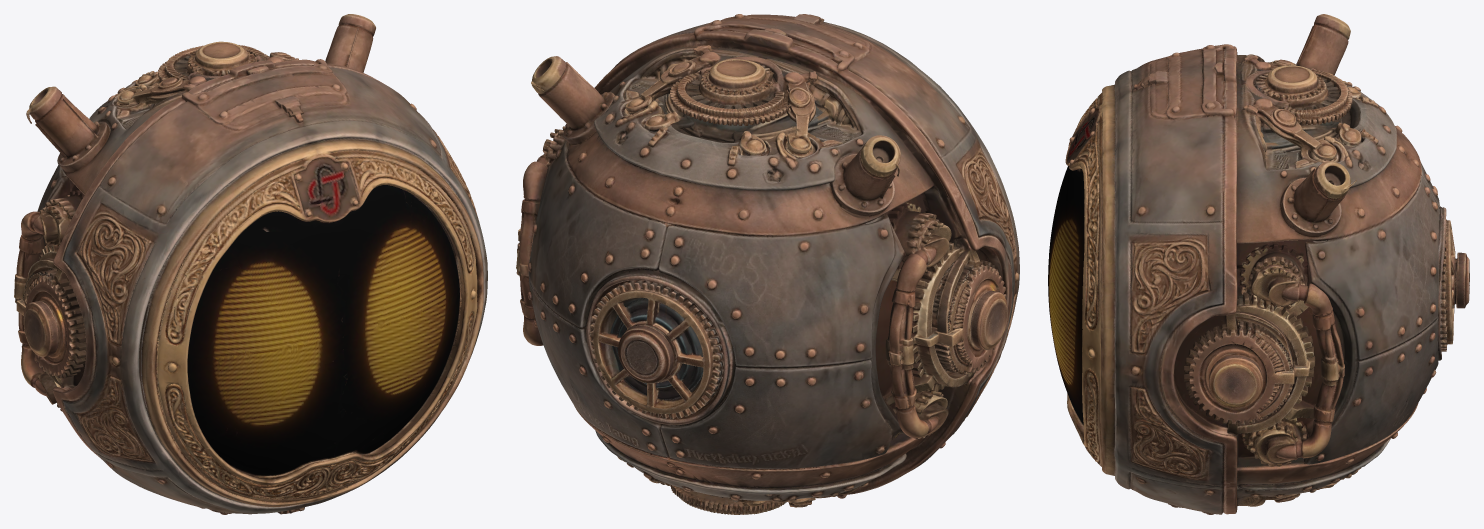
Rendered from mascot.room.draco.glb.
3 views of the same model, side by side, from view 1: azimuth 30°, elevation 25°; view 2: azimuth 150°, elevation 25°; view 3: azimuth 270°, elevation 25° (orthographic). The views are drawn at different scales.
Size of the model in its own units: 2 by 1.91 by 1.7.
Materials: 1 (1 with a texture image).
